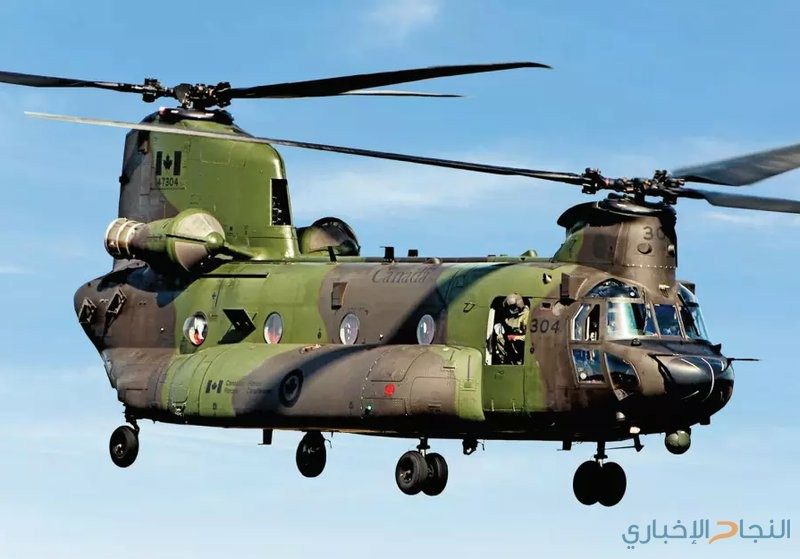chinook: (10, 67, 784, 500)
